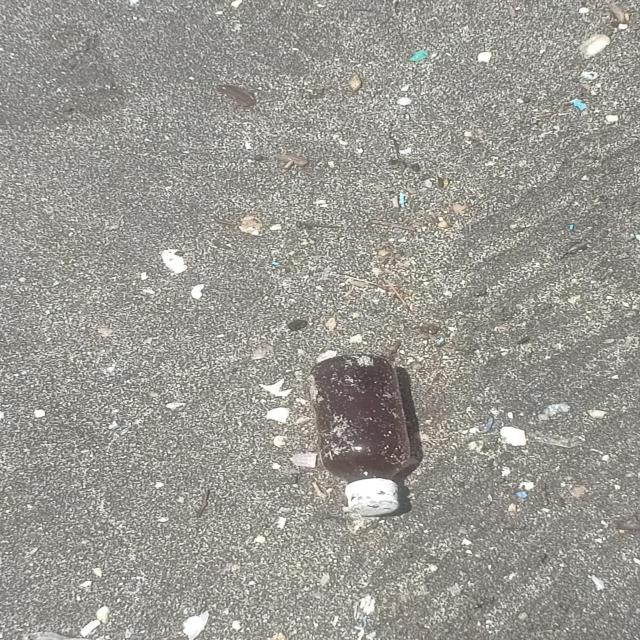litter: (310, 356, 414, 517)
